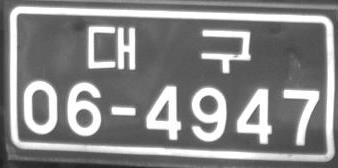0: (23, 78, 58, 134)
4: (145, 84, 181, 140), (237, 87, 272, 144)
6: (67, 80, 102, 136)
7: (282, 87, 320, 146)
9: (190, 85, 227, 142)
대구_D: (87, 24, 252, 75)
